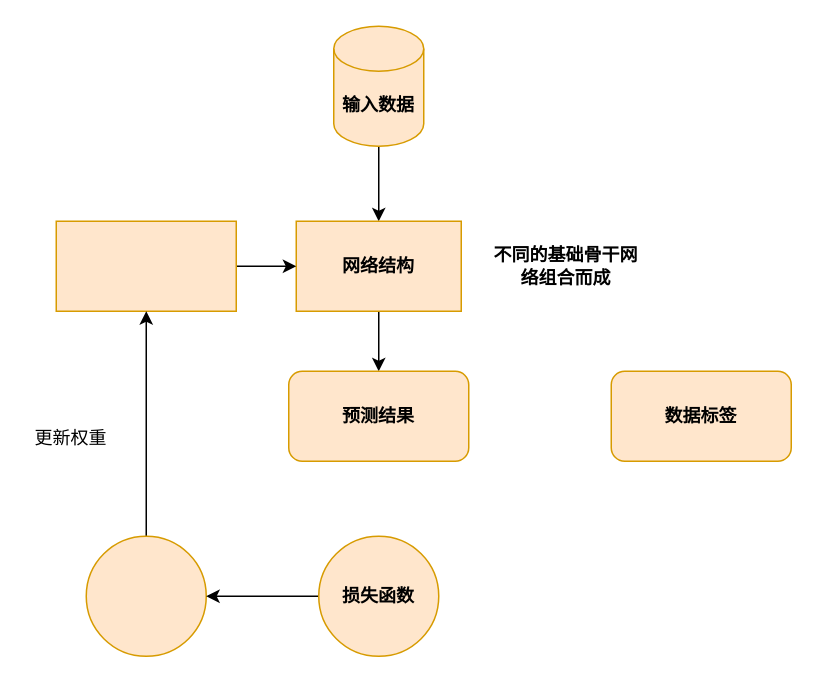
The diagram is 818 pixels wide and 683 high, and some of its shapes have lost their labels. Here are the shapes that lost their labels. From the top down, the centre of each, then its label:
the point at 145,265: 权重/参数
the point at 145,595: 优化算法
